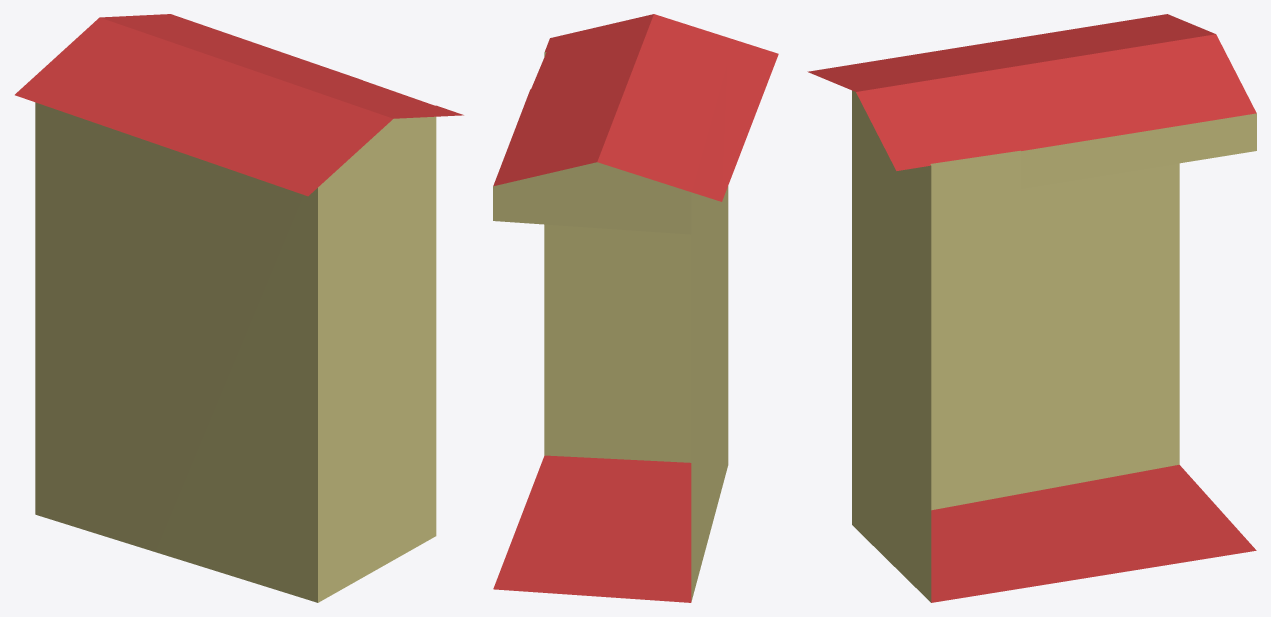
The picture shows the model from 3 angles, left to right: view 1: azimuth 30°, elevation 25°; view 2: azimuth 150°, elevation 25°; view 3: azimuth 270°, elevation 25°; orthographic projection. The views are drawn at different scales.
Size of the model in its own units: 6.59 by 7.97 by 9.21.
